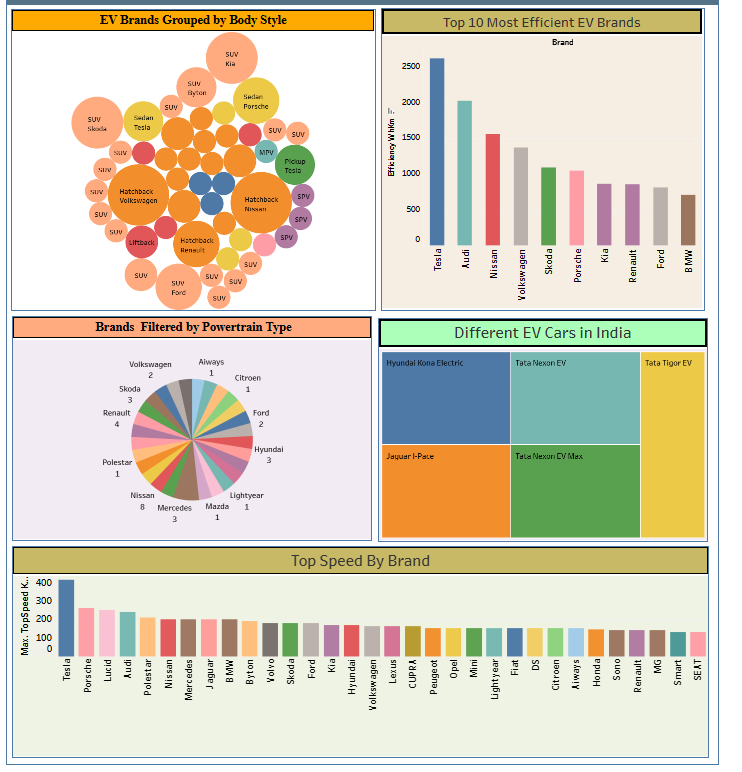

This screenshot's page, from the dashboard's own definition file:
{"tool":"tableau","page":{"name":"Driving the Future:Insights into Electric Vehicles","canvas":[1326,2000],"ordinal":0},"visuals":[{"type":"image","param":"Image/360_F_1081359338_CtLRnYHppDPquvROXoxNN3GOcKgHtkS6.jpg","box":[8,8,1150,1984]},{"type":"legend","title":"EV Brands Grouped By Body Style","param":"[federated.1afmd5u1ttvggq1cxxy9j098db8y].[none:BodyStyle:nk]","box":[1158,8,160,207]},{"type":"text","box":[82,32,1032,68]},{"type":"worksheet","title":"EV Brands summary globally","mark":"Shape","box":[24,119,314,211]},{"type":"worksheet","title":"EV Brand Summary-India","mark":"Shape","box":[811,128,327,200]},{"type":"legend","title":"Top 10 Most Effective EV Brands ","param":"[federated.1afmd5u1ttvggq1cxxy9j098db8y].[none:Brand:nk]","box":[1158,215,160,240]},{"type":"legend","title":"Different EV cars in India","param":"[federated.190wv1a0fbuizg105qokf1xhvbdd].[none:Car:nk]","box":[1158,455,160,135]},{"type":"worksheet","title":"Top 10 Most Effective EV Brands ","mark":"Automatic","rows":["Efficiency_WhKm"],"cols":["Brand"],"box":[612,777,519,485]},{"type":"worksheet","title":"EV Brands Grouped By Body Style","mark":"Circle","box":[21,779,583,484]},{"type":"worksheet","title":"Brands filtered By Power Train","mark":"Pie","box":[22,1271,577,359]},{"type":"worksheet","title":"Different EV cars in India","mark":"Automatic","box":[608,1273,528,359]},{"type":"worksheet","title":"TopSpeed By Brand","mark":"Automatic","rows":["TopSpeed_KmH"],"cols":["Brand"],"box":[23,1638,1115,339]}]}

Visuals, with their boxes on the page's 1326x2000 design canvas (x1, y1, x2, y2). These are canvas units, not pixel positions in the 742x772 screenshot, which may show the page scaled, cropped or inside an application window:
image: (x1=8, y1=8, x2=1158, y2=1992)
"EV Brands Grouped By Body Style" legend: (x1=1158, y1=8, x2=1318, y2=215)
text: (x1=82, y1=32, x2=1114, y2=100)
"EV Brands summary globally" worksheet (Shape marks): (x1=24, y1=119, x2=338, y2=330)
"EV Brand Summary-India" worksheet (Shape marks): (x1=811, y1=128, x2=1138, y2=328)
"Top 10 Most Effective EV Brands " legend: (x1=1158, y1=215, x2=1318, y2=455)
"Different EV cars in India" legend: (x1=1158, y1=455, x2=1318, y2=590)
"Top 10 Most Effective EV Brands " worksheet: (x1=612, y1=777, x2=1131, y2=1262)
"EV Brands Grouped By Body Style" worksheet (Circle marks): (x1=21, y1=779, x2=604, y2=1263)
"Brands filtered By Power Train" worksheet (Pie marks): (x1=22, y1=1271, x2=599, y2=1630)
"Different EV cars in India" worksheet: (x1=608, y1=1273, x2=1136, y2=1632)
"TopSpeed By Brand" worksheet: (x1=23, y1=1638, x2=1138, y2=1977)
